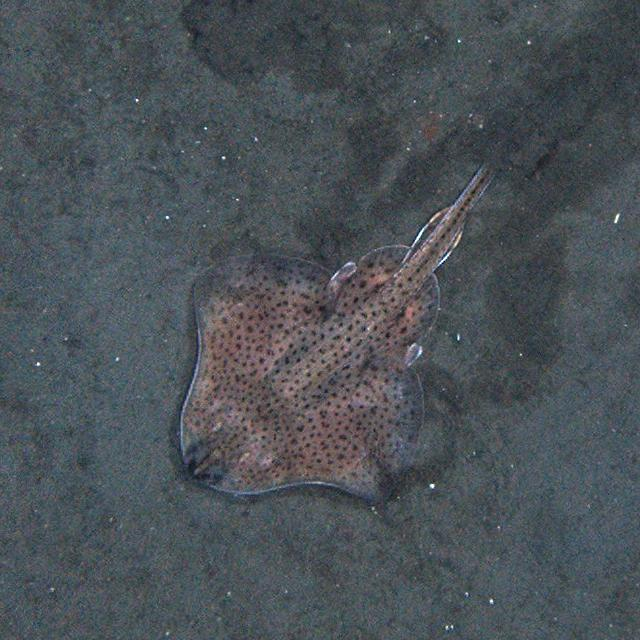skate: (135, 158, 510, 505)
